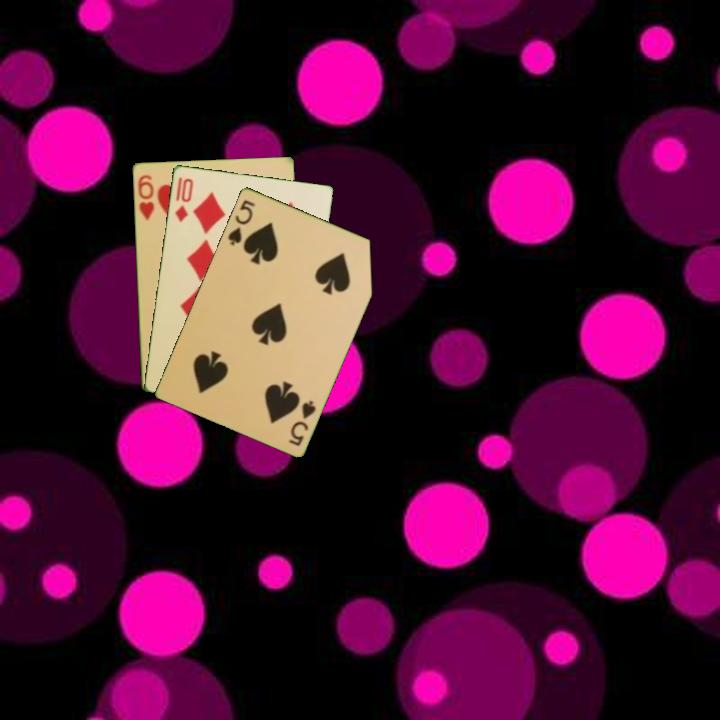10d: (171, 174, 196, 225)
5s: (285, 396, 319, 449), (224, 196, 258, 248)
6h: (134, 171, 157, 223)
